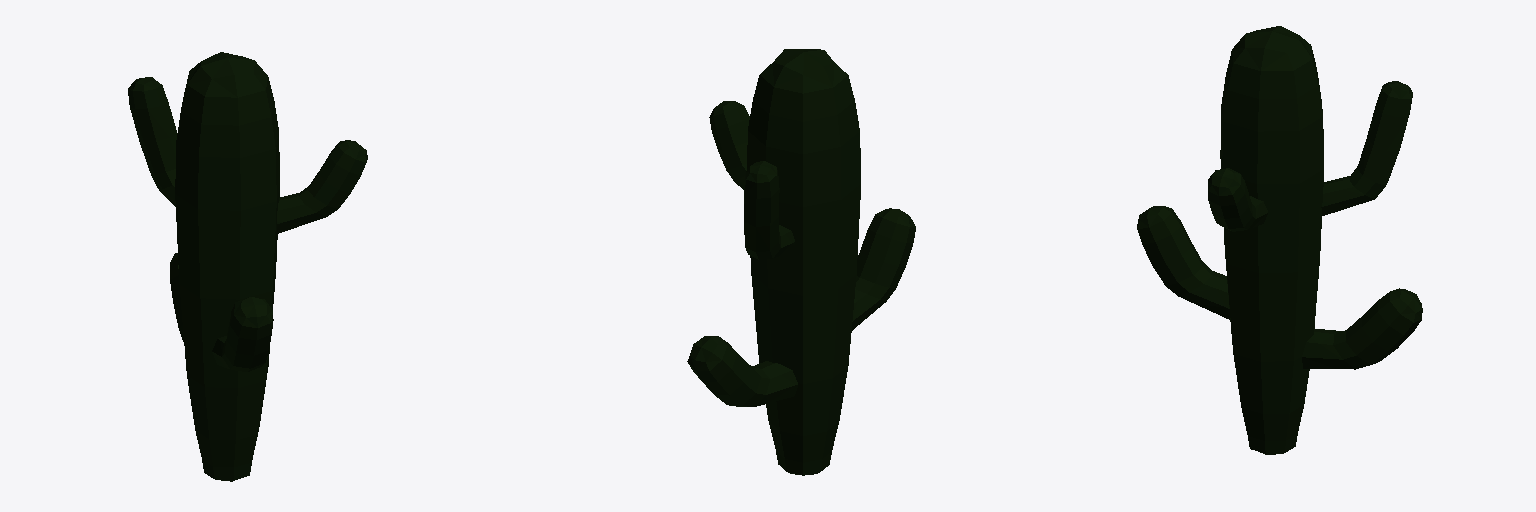
File: Cactus_2.obj
The picture shows the model from 3 angles: view 1: azimuth 30°, elevation 25°; view 2: azimuth 150°, elevation 25°; view 3: azimuth 270°, elevation 25°; orthographic projection.
Visible parts, largest first — view 1: Cactus_2_Cube.029; view 2: Cactus_2_Cube.029; view 3: Cactus_2_Cube.029.
Boxes of the visible parts, box(x1,y1,x2,y2) form: Cactus_2_Cube.029: box(128, 52, 367, 481); Cactus_2_Cube.029: box(687, 49, 915, 475); Cactus_2_Cube.029: box(1137, 26, 1422, 454).
Bounding box in the file's own units: 0.7002 × 1.7 × 1.05.